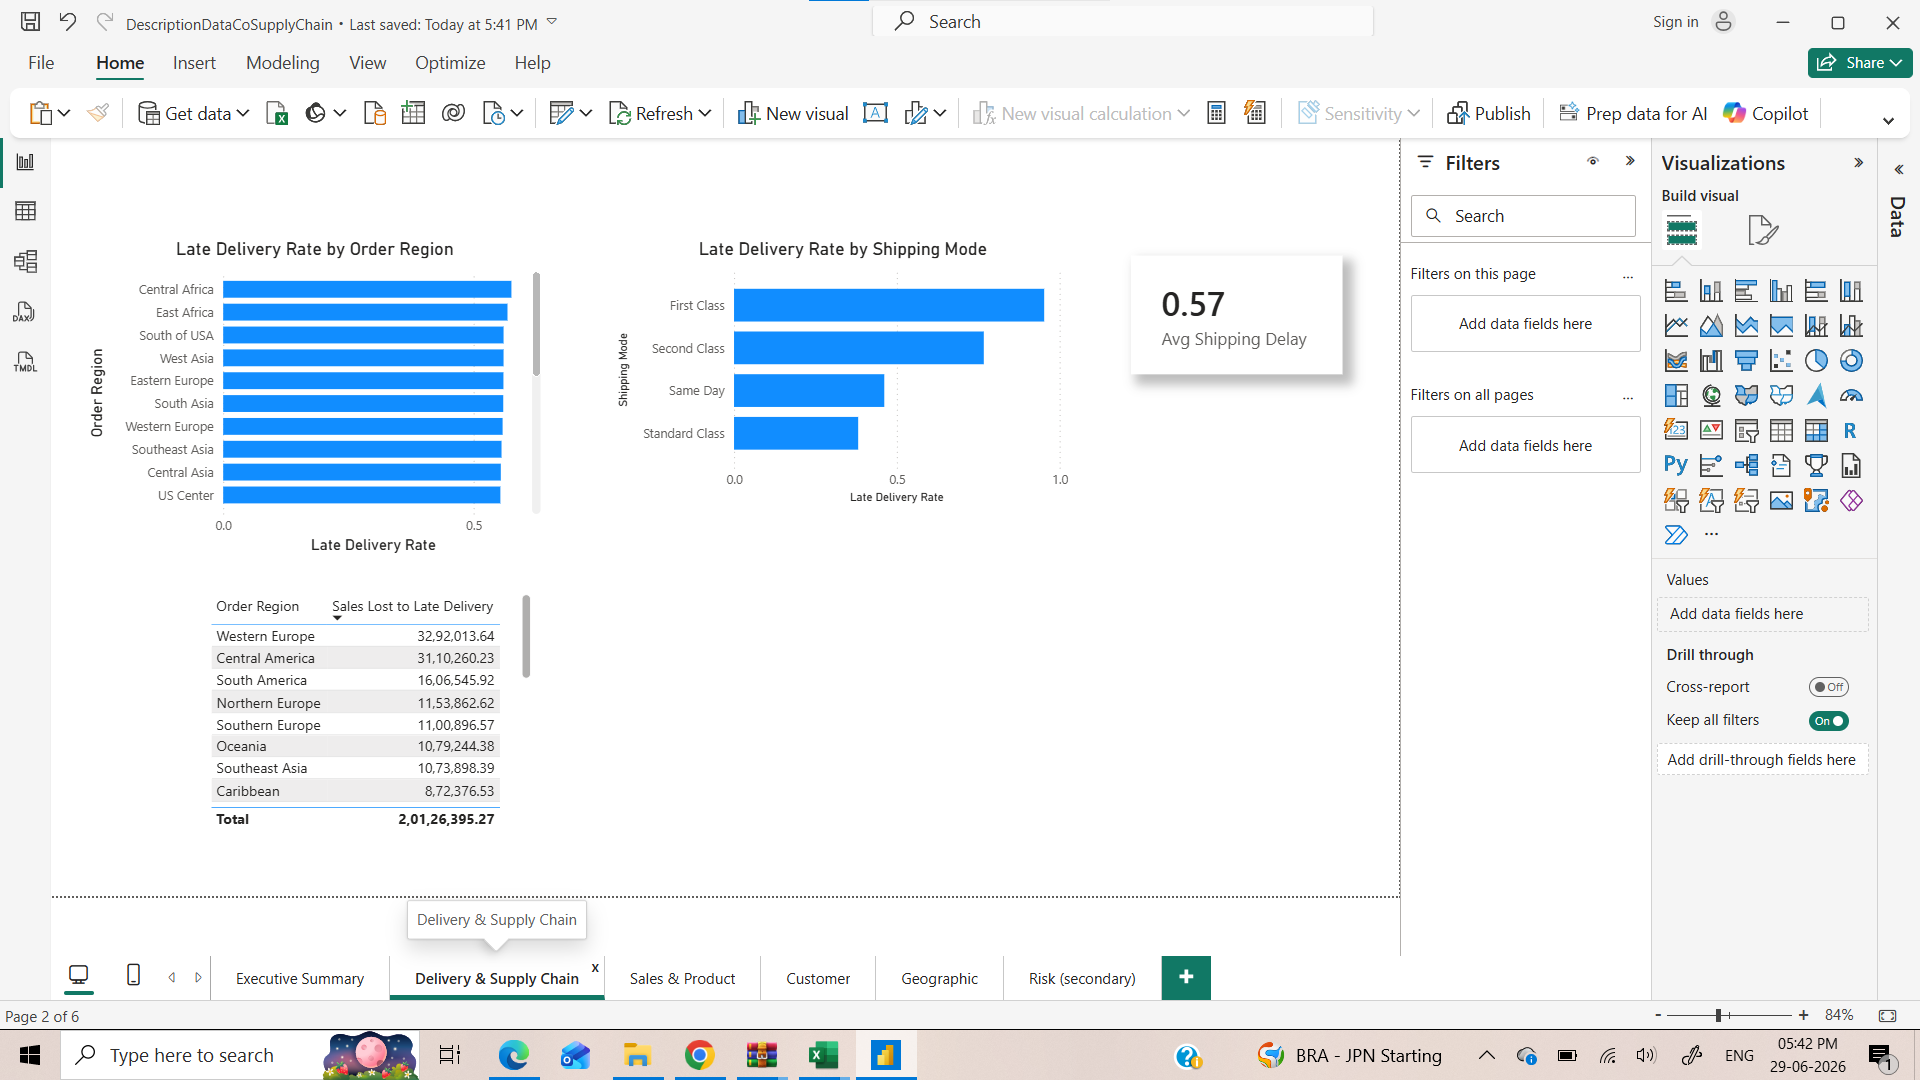

What the dashboard file says about the page in this screenshot:
{"tool":"powerbi","page":{"name":"Delivery & Supply Chain","canvas":[1280,720],"ordinal":1},"visuals":[{"type":"clusteredBarChart","fields":{"Category":["FactOrders.Order Region"],"Y":["_Measures.Late Delivery Rate"]},"box":[30.8,94.9,439,304.9],"z":3000},{"type":"clusteredBarChart","fields":{"Category":["FactOrders.Shipping Mode"],"Y":["_Measures.Late Delivery Rate"]},"box":[532.7,94.9,437.8,257.5],"z":4000},{"type":"cardVisual","fields":{"Data":["_Measures.Avg Shipping Delay"]},"box":[1025.1,111.5,200.5,112.7],"z":5000},{"type":"tableEx","fields":{"Values":["FactOrders.Order Region","_Measures.Sales Lost to Late Delivery"]},"box":[145.9,428.3,314.4,232.6],"z":6000}]}

Visuals, with their boxes on the page's 1280x720 design canvas (x1, y1, x2, y2). These are canvas units, not pixel positions in the 1920x1080 screenshot, which may show the page scaled, cropped or inside an application window:
clusteredBarChart - FactOrders.Order Region x _Measures.Late Delivery Rate: 31, 95, 470, 400
clusteredBarChart - FactOrders.Shipping Mode x _Measures.Late Delivery Rate: 533, 95, 970, 352
cardVisual - _Measures.Avg Shipping Delay: 1025, 112, 1226, 224
tableEx - FactOrders.Order Region x _Measures.Sales Lost to Late Delivery: 146, 428, 460, 661
